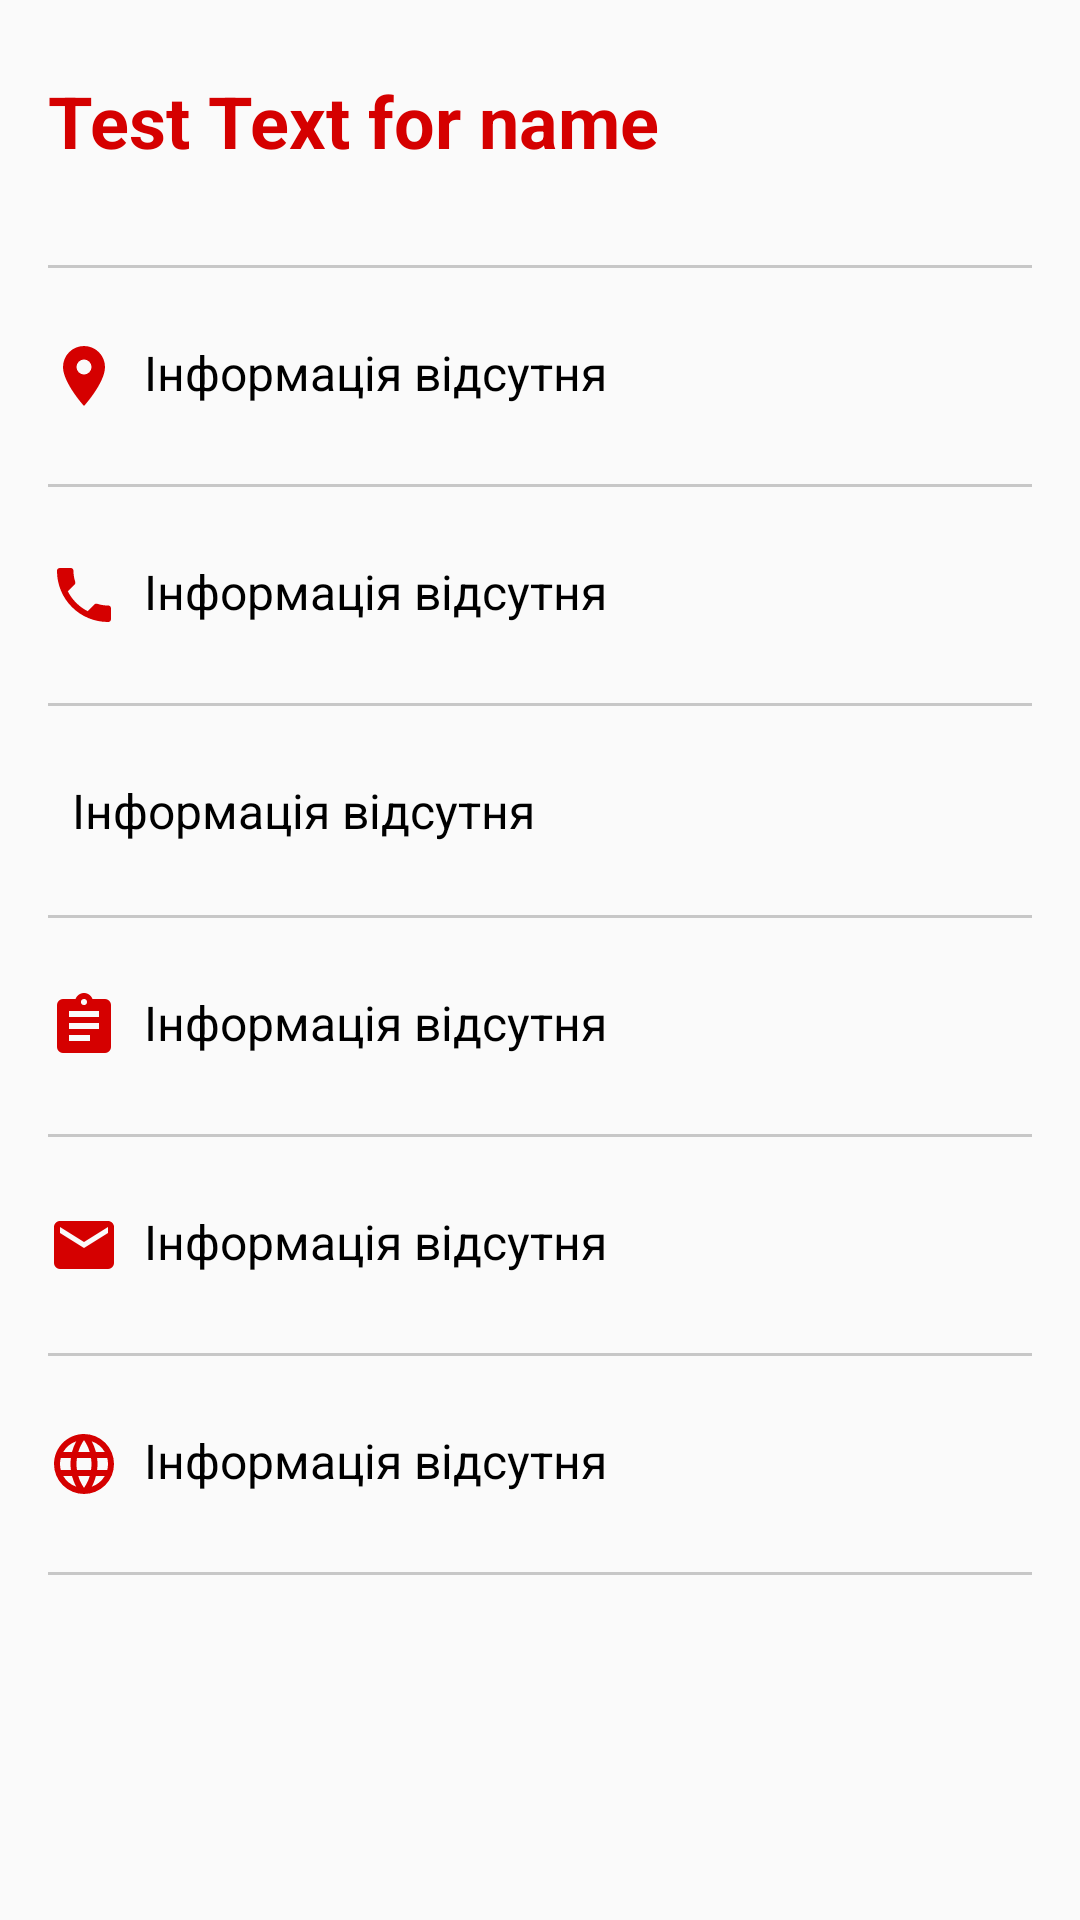

Icons on this 1080*1920 Android screen, each with its box as [x1,y1,x2,y2]:
clipboard text: [57,993,111,1053]
email: [54,1221,114,1269]
map marker: [63,346,105,406]
phone: [57,568,111,622]
web: [54,1434,114,1494]
